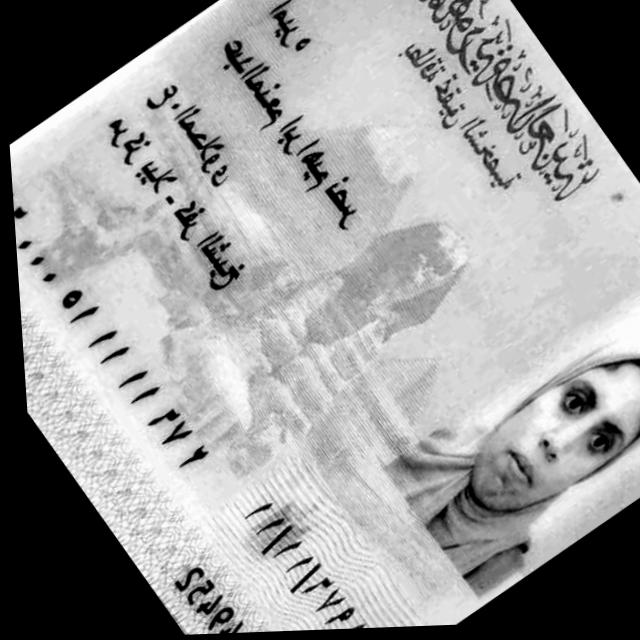id_card: (10, 0, 640, 635)
